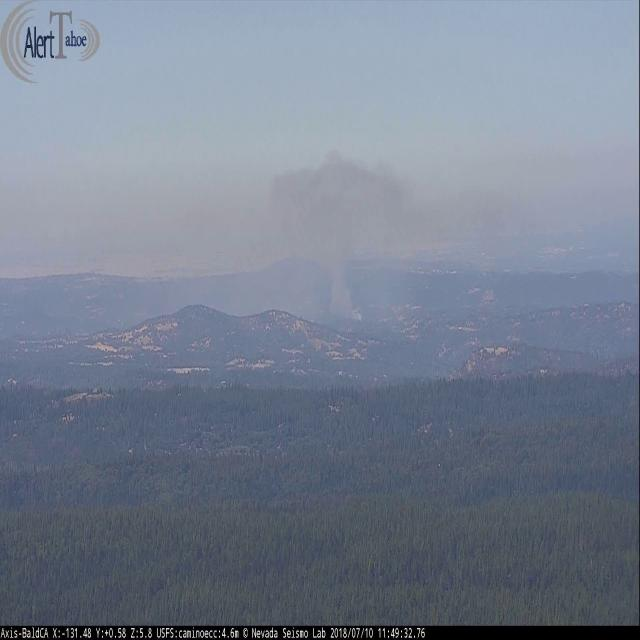smoke: (253, 146, 436, 353)
